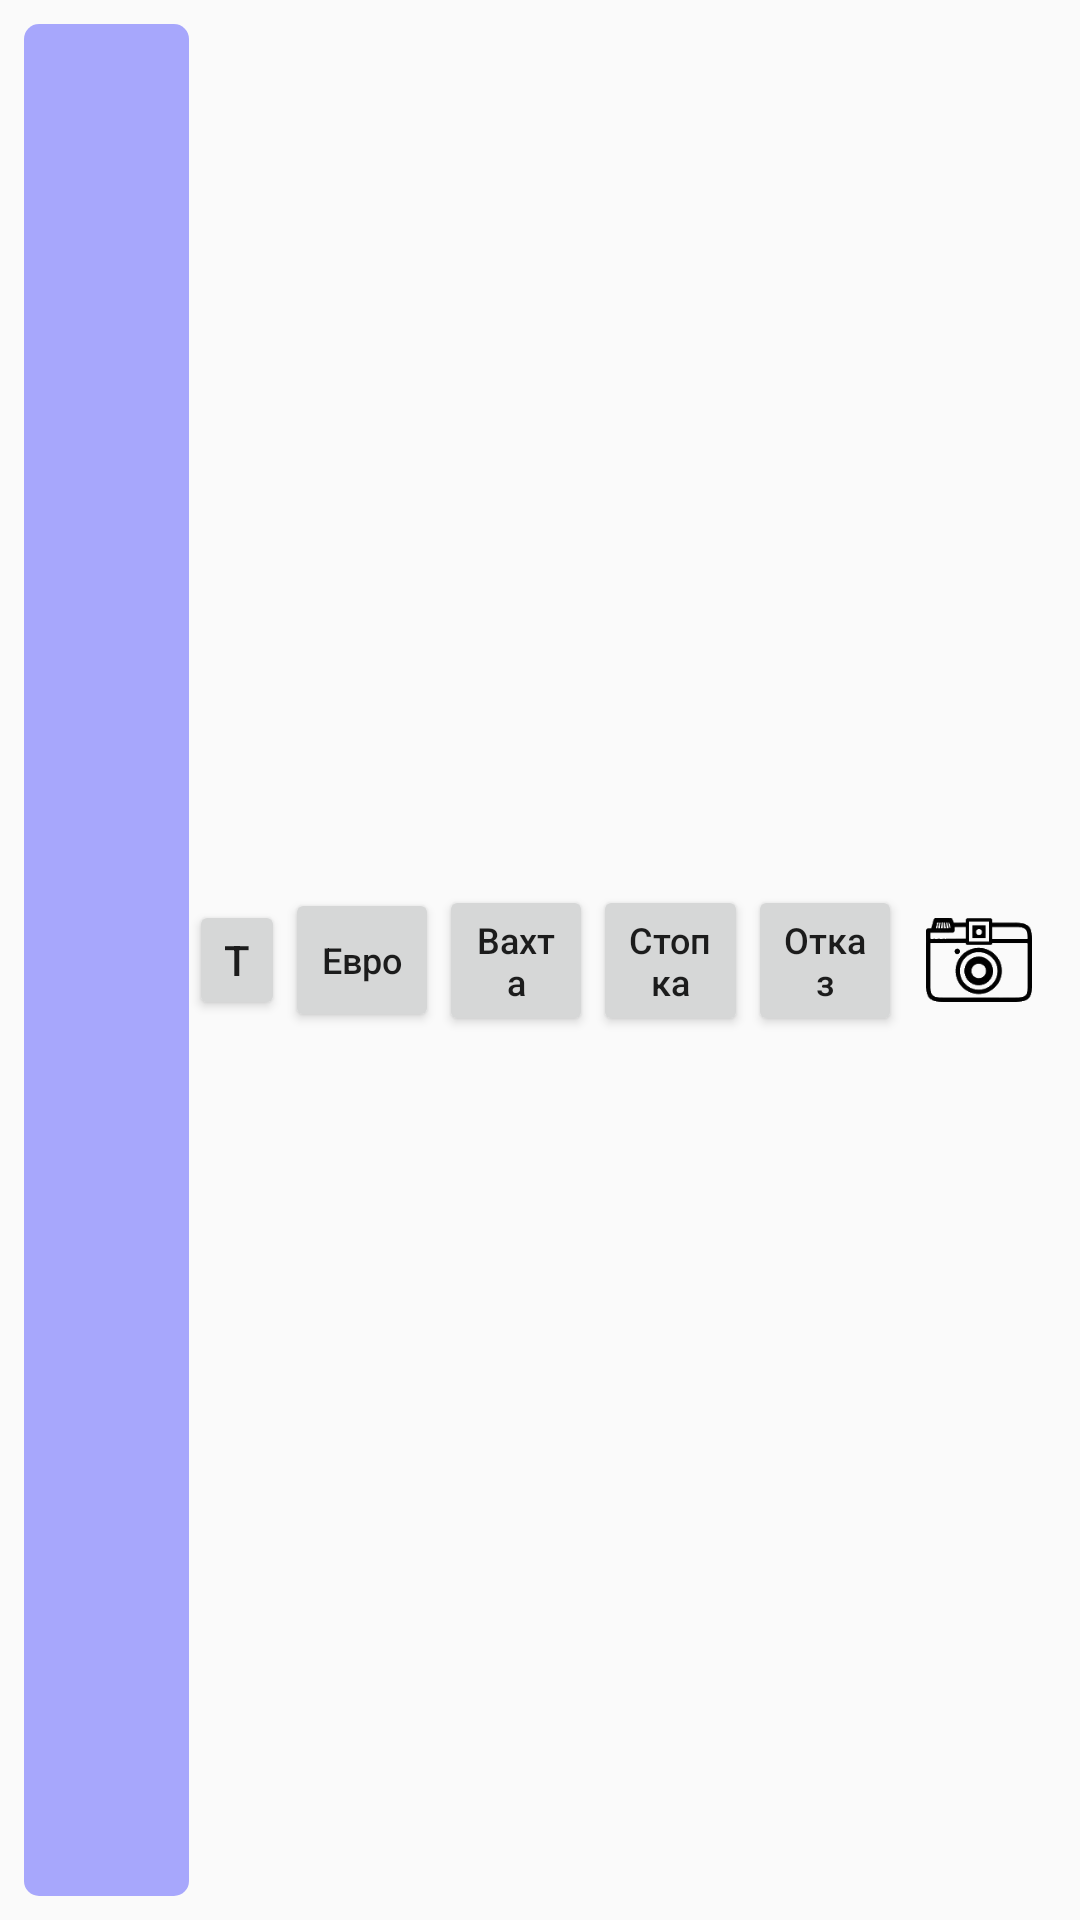

Icons on this 1080 x 1920 Android screen, each with its box as region(x1, y1, x2, y2):
entrance photo: region(926, 918, 1032, 1002)
